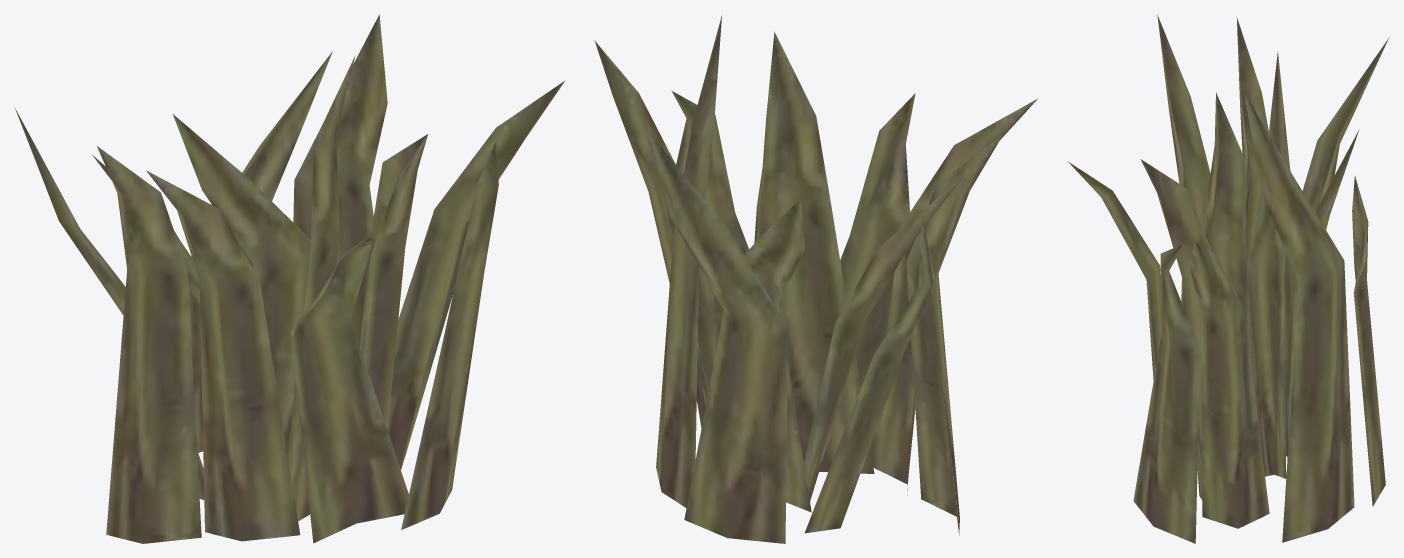
File: grass_03.glb
The picture shows the model from 3 angles, left to right: view 1: azimuth 30°, elevation 25°; view 2: azimuth 150°, elevation 25°; view 3: azimuth 270°, elevation 25°; orthographic projection. The views are drawn at different scales.
Visible parts, largest first — view 1: SM_Grass_03; view 2: SM_Grass_03; view 3: SM_Grass_03.
Boxes of the visible parts, box(x1,y1,x2,y2) form: SM_Grass_03: box(15, 14, 564, 543); SM_Grass_03: box(594, 15, 1037, 543); SM_Grass_03: box(1067, 15, 1389, 543).
Bounding box in the file's own units: 0.6018 × 0.6043 × 0.4085.
Materials: 1 (1 with a texture image).
